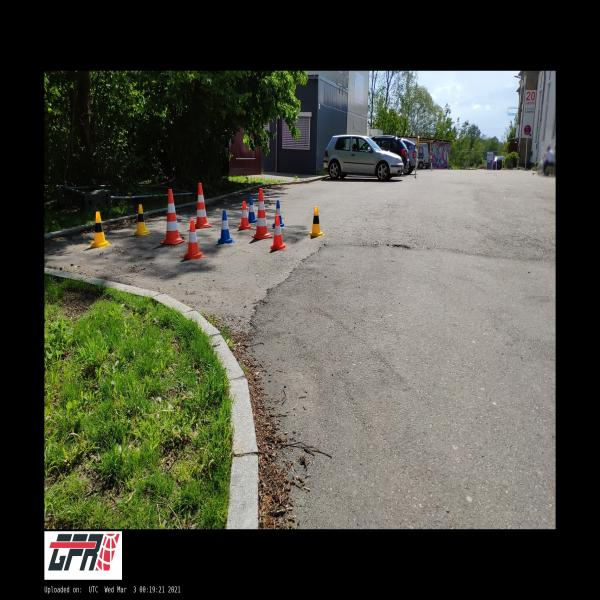blue_cone: (216, 211, 235, 243), (273, 201, 285, 226), (248, 197, 257, 223)
large_orange_cone: (160, 189, 185, 245), (252, 189, 272, 239), (194, 183, 212, 228)
orange_cone: (182, 220, 204, 260), (270, 215, 286, 250), (237, 201, 252, 229)
yellow_cone: (90, 212, 110, 248), (133, 204, 150, 236), (309, 205, 323, 237)
